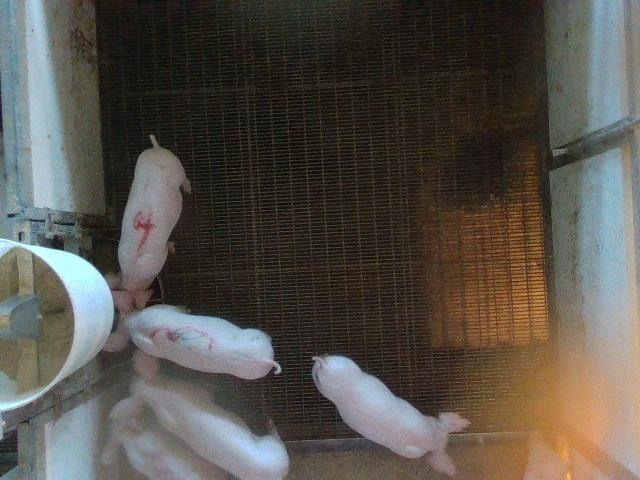pig-3: (104, 290, 281, 379)
pig-4: (106, 135, 191, 308)
